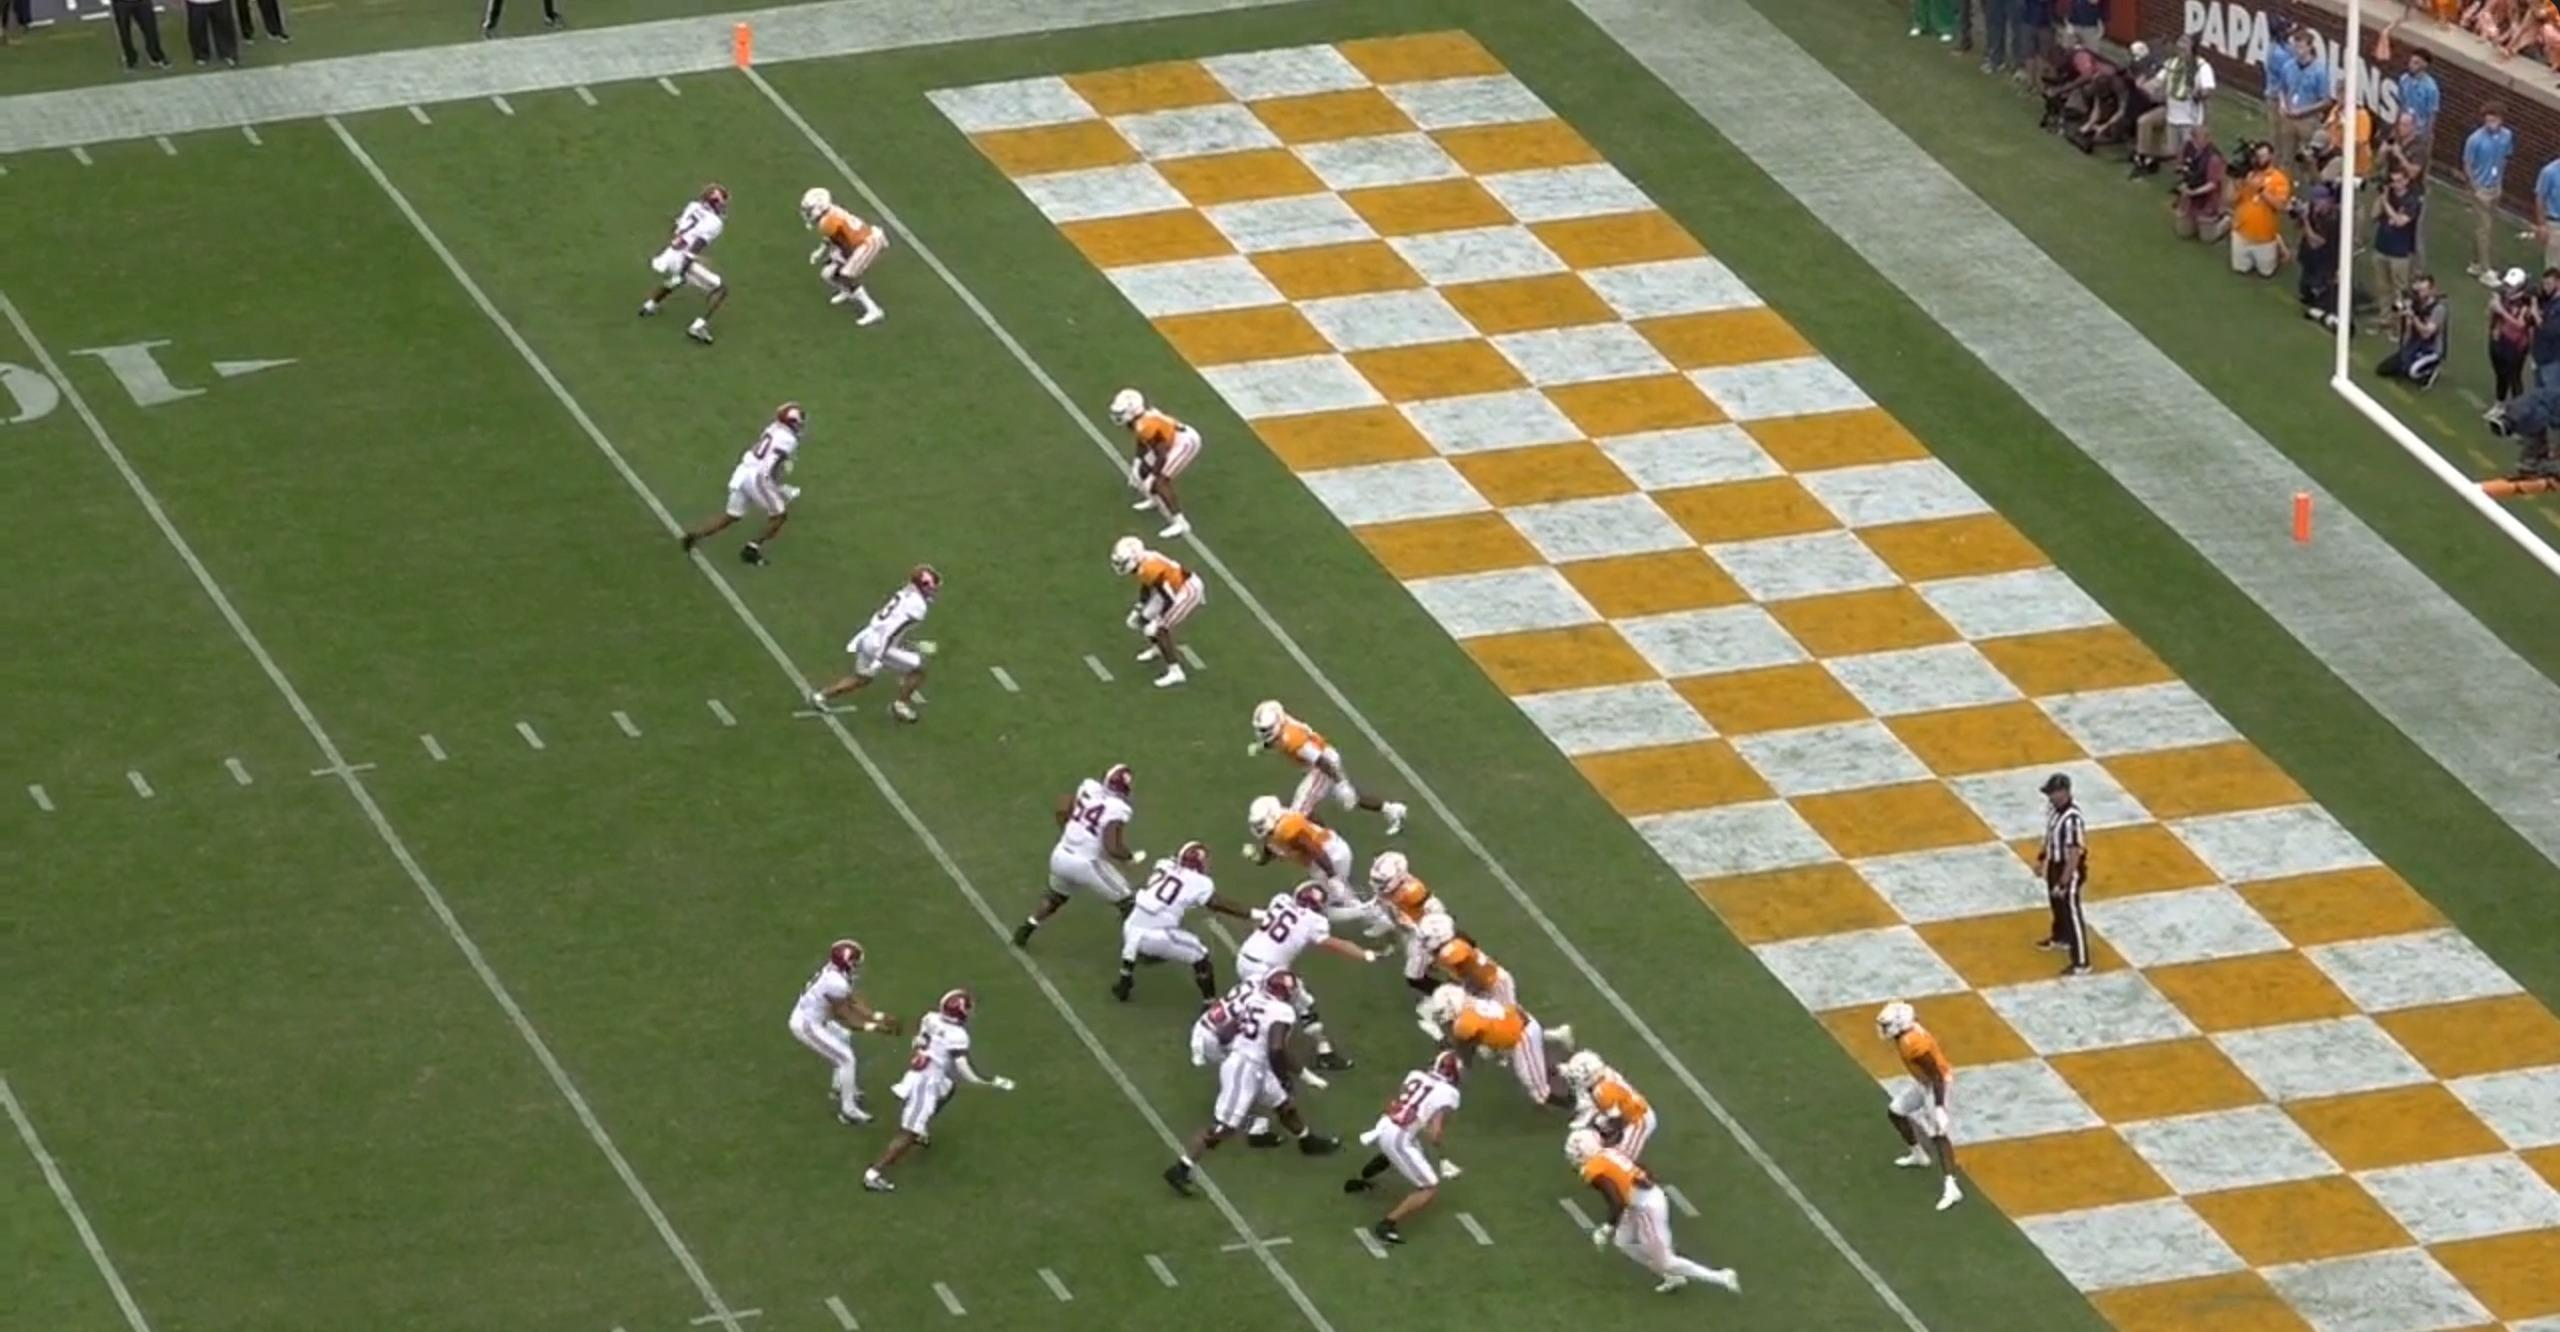defense: (1566, 1128, 1747, 1297), (1414, 986, 1586, 1131), (1242, 698, 1407, 843), (1872, 995, 1975, 1219), (1112, 532, 1215, 692), (1111, 388, 1212, 547), (791, 178, 893, 330), (1557, 1032, 1658, 1180), (1363, 847, 1466, 990), (1250, 791, 1375, 899), (1424, 914, 1521, 1016)
oline: (1170, 965, 1344, 1193), (1017, 763, 1166, 961), (1241, 881, 1373, 1082), (1096, 835, 1240, 1008), (1190, 966, 1287, 1070)
qb: (787, 925, 888, 1127)
ref: (2037, 769, 2110, 986)
skill: (862, 984, 1012, 1197), (1343, 1053, 1474, 1255), (666, 401, 812, 582), (811, 562, 957, 731), (627, 178, 738, 354)
